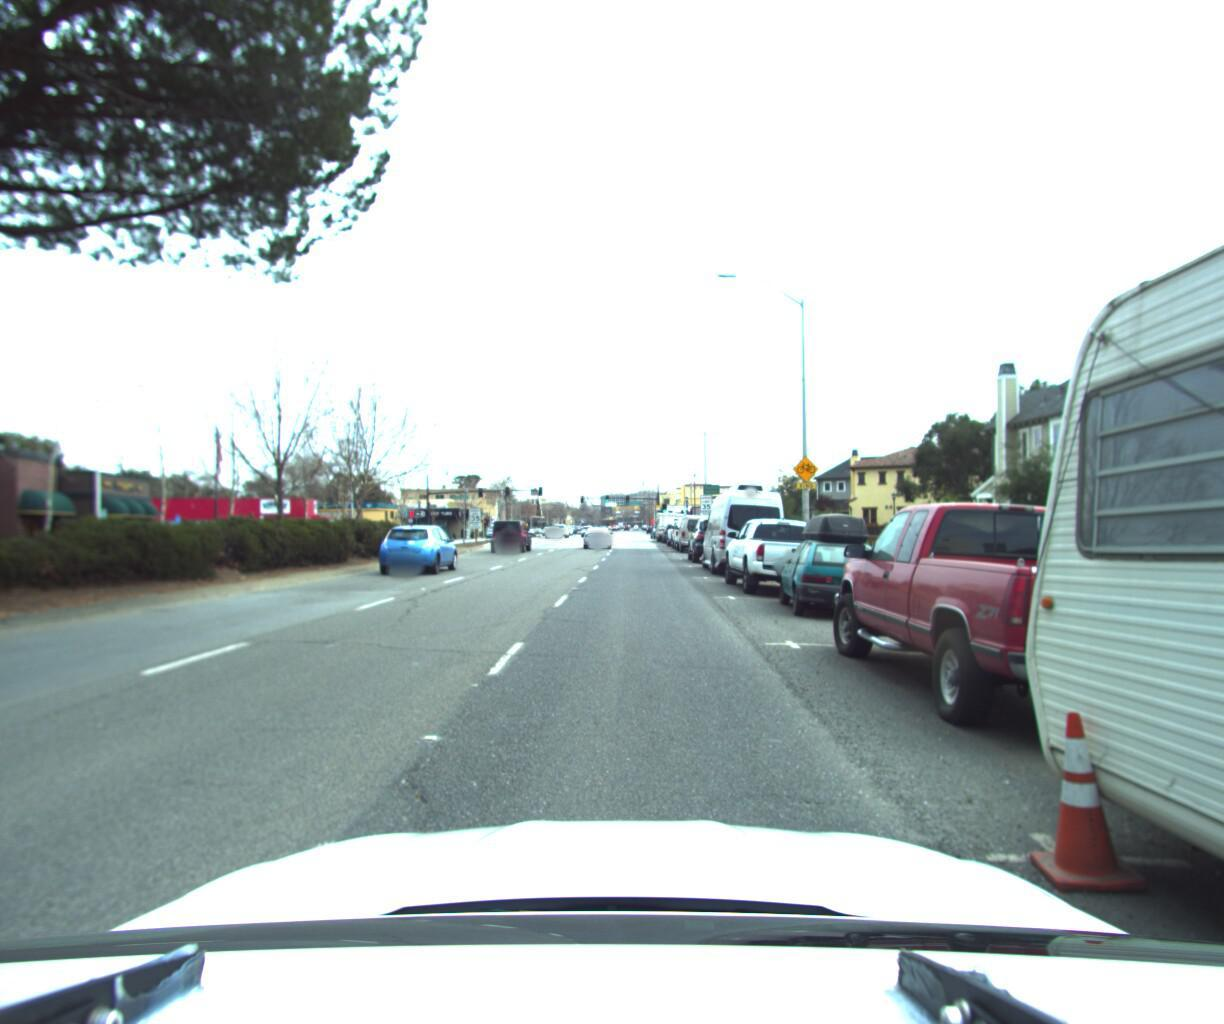car: (822, 489, 1224, 781), (762, 507, 910, 623), (722, 513, 839, 601), (696, 479, 793, 578), (377, 519, 461, 575), (688, 513, 744, 564), (677, 509, 718, 552), (491, 518, 535, 554), (671, 514, 708, 549), (582, 521, 610, 546)
other_vehicle: (653, 503, 687, 540)
